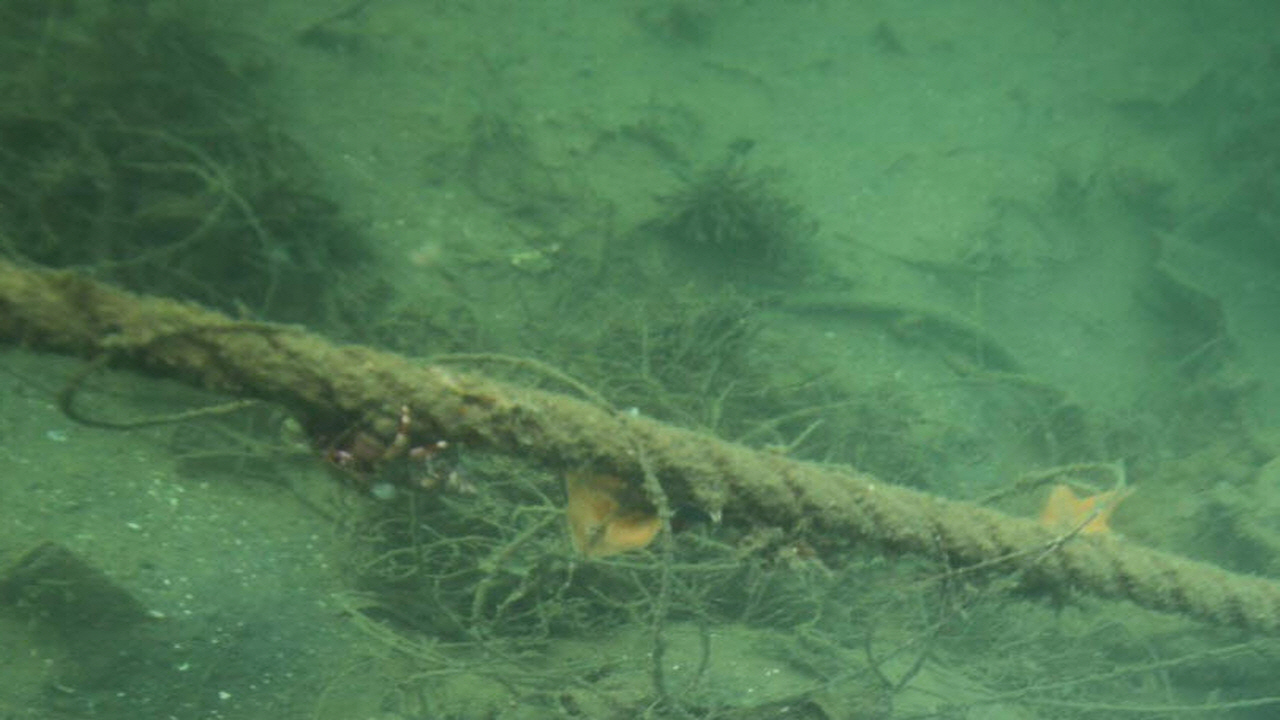rope: (0, 247, 1280, 639)
